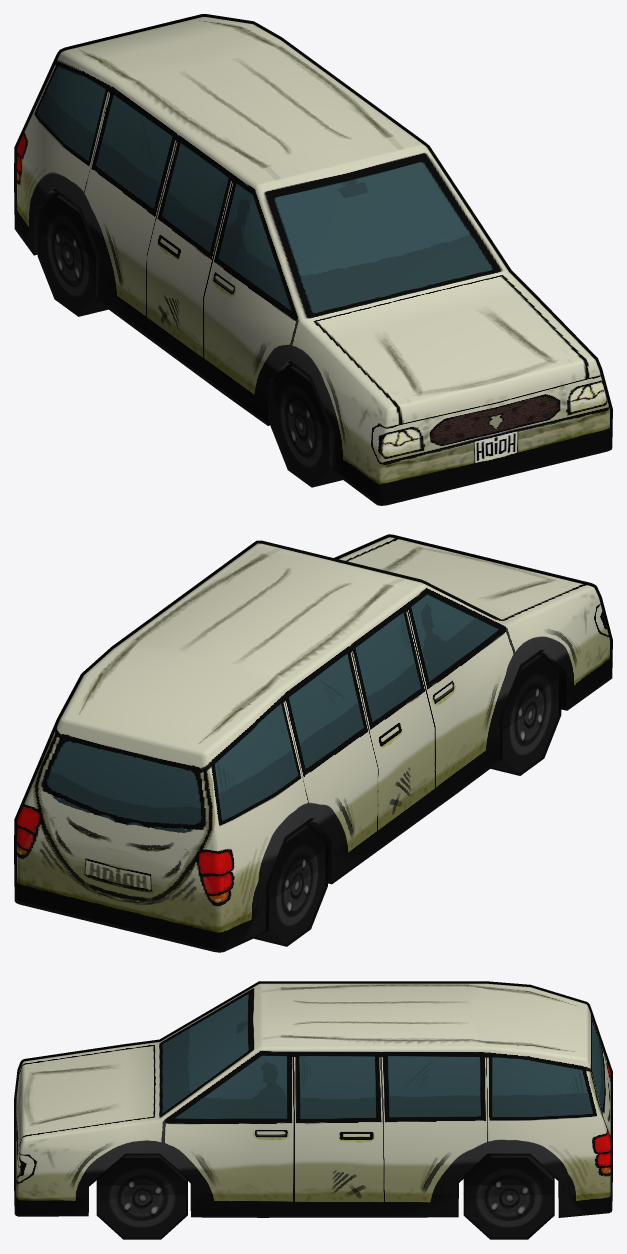
Rendered from car.glb.
3 views of the same model, one above another, from view 1: azimuth 30°, elevation 25°; view 2: azimuth 150°, elevation 25°; view 3: azimuth 270°, elevation 25° (orthographic). The views are drawn at different scales.
Parts seen in each view (by area): view 1: Car Body_1, Wheels_0; view 2: Car Body_1, Wheels_0; view 3: Car Body_1, Wheels_0.
Part boxes in pixels (x1,y1,x2,y2): Car Body_1: (14, 14, 612, 505); Wheels_0: (37, 193, 342, 487); Car Body_1: (14, 534, 612, 952); Wheels_0: (254, 652, 561, 946); Car Body_1: (14, 981, 612, 1217); Wheels_0: (96, 1155, 554, 1239).
Size of the model in its own units: 0.8973 by 0.8566 by 2.5.
Materials: 3 (2 with a texture image).
